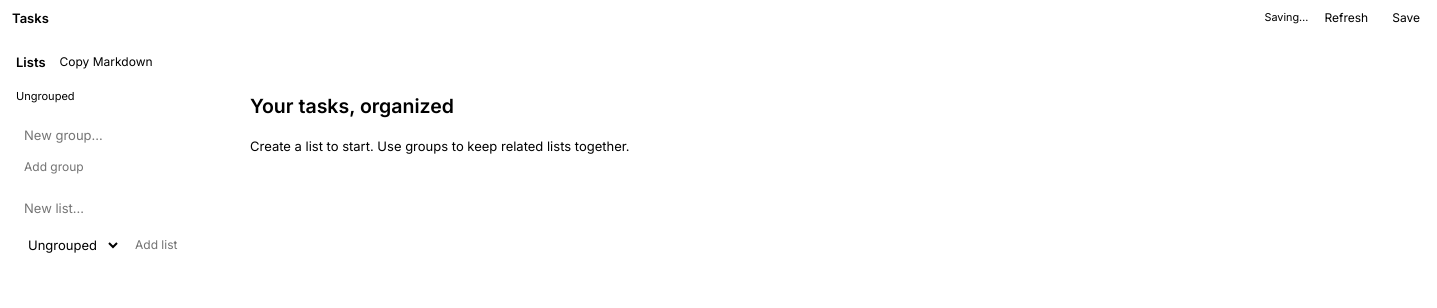
Test: workspace document views › opens missing Tasks as an editable empty book and commits only a submitted edit
Check: the text "Tasks" is shown, box [12,9,49,27]
Type "First list" into the field named "New list" at [115, 208], box [16,193,214,224]
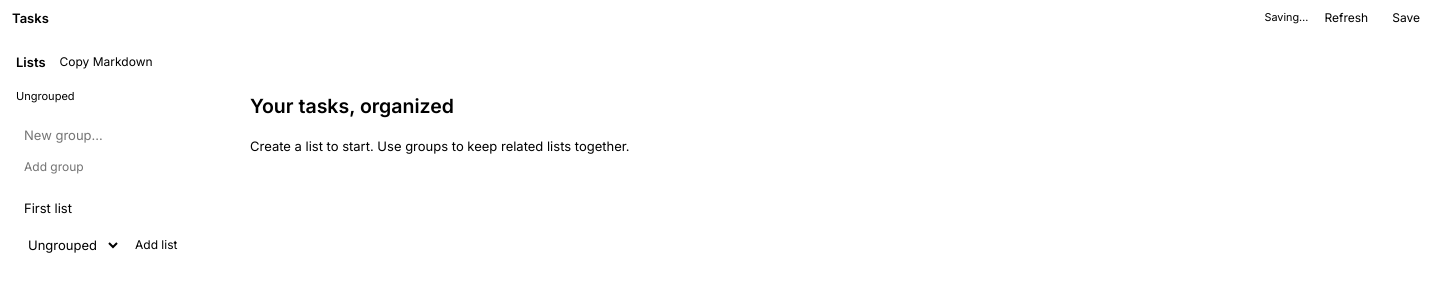
Submit the form named "New list", box [16,193,214,260]
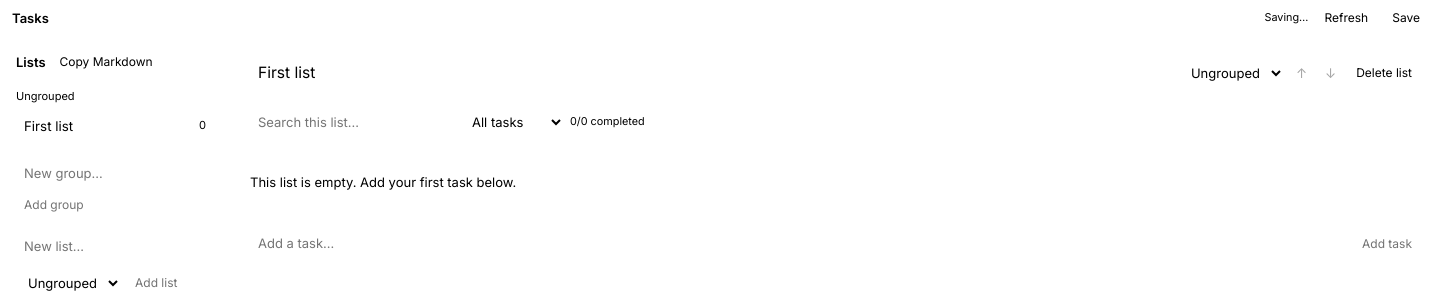
Check: the text "First list" is shown, box [24,118,73,134]
